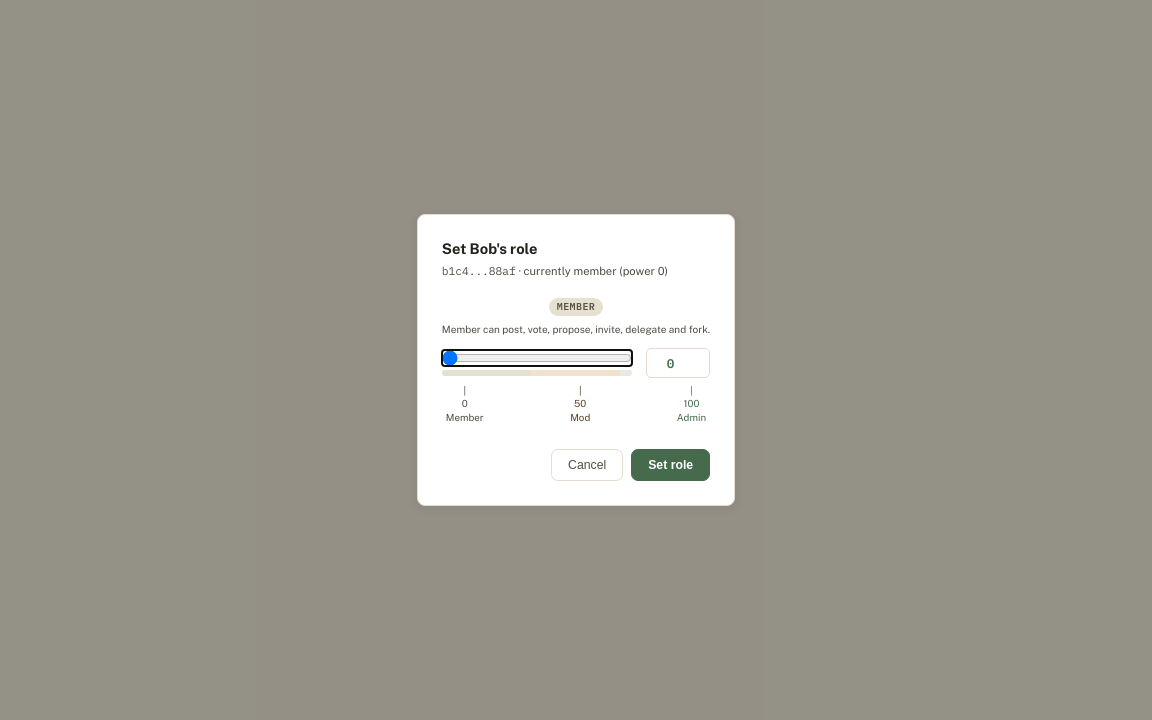
Scenario: SetPowerDialog › clamps out-of-range typed value on blur
This screenshot has width=1152, height=720.
Replace the text in the number field named "Power level" with "500" at (678, 363), box [646,348,710,378]
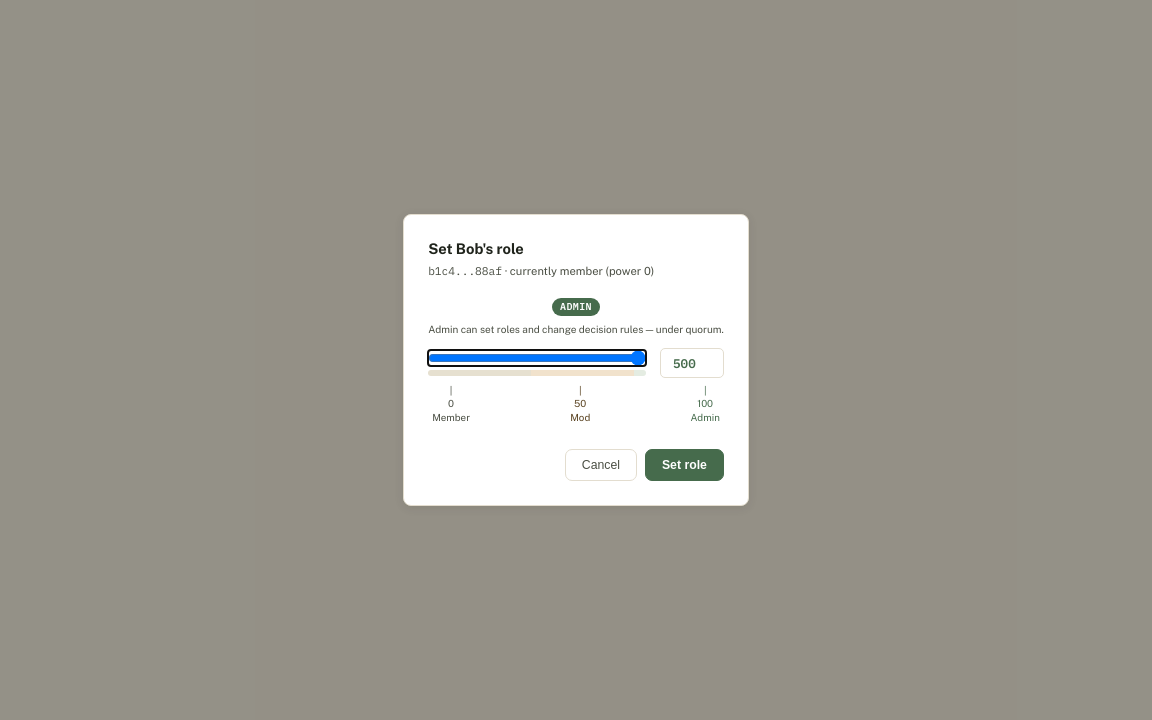
Leave the number field named "Power level", box [660,348,724,378]
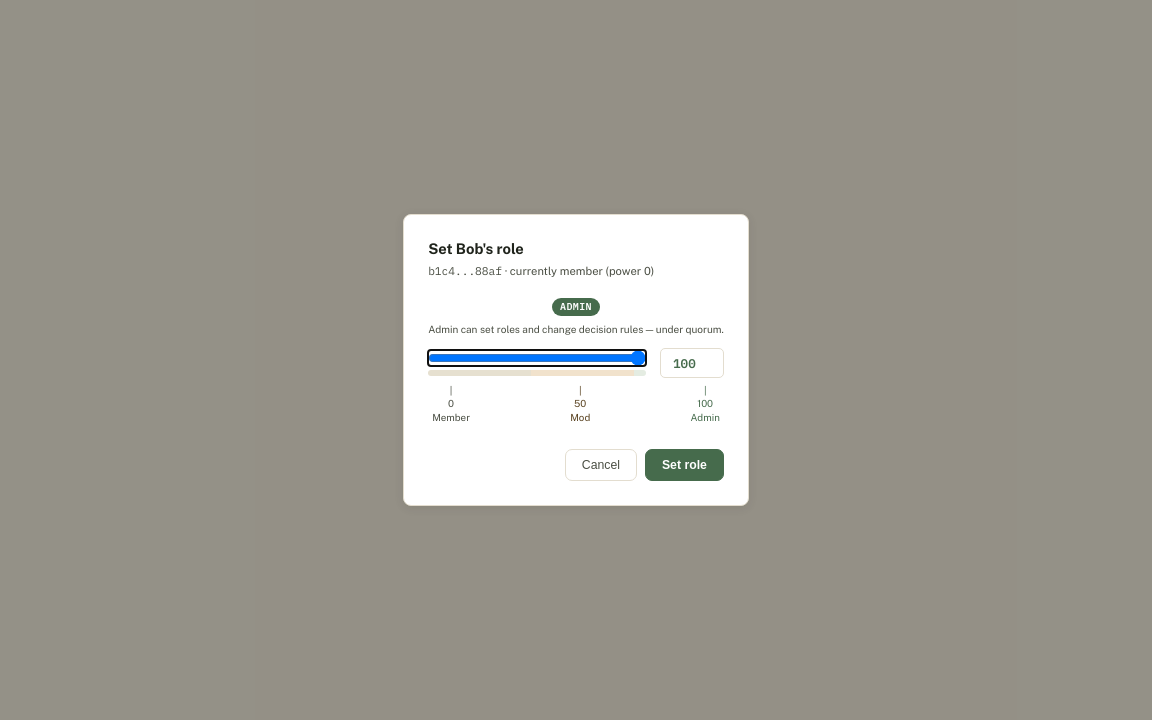
Check: the number field named "Power level" holds "100", box [660,348,724,378]
